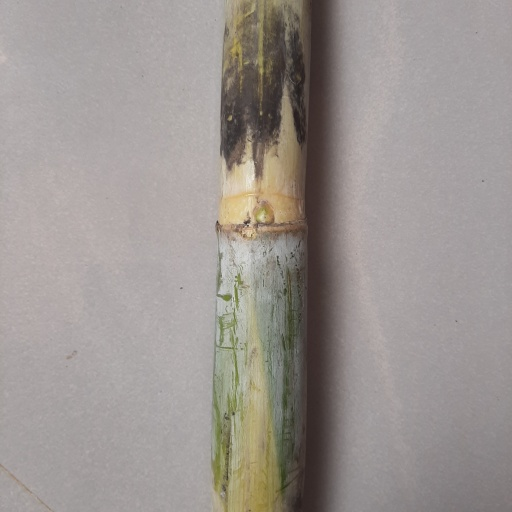Bud: (250, 199, 274, 225)
